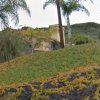Palm tree: (47, 0, 84, 39)
